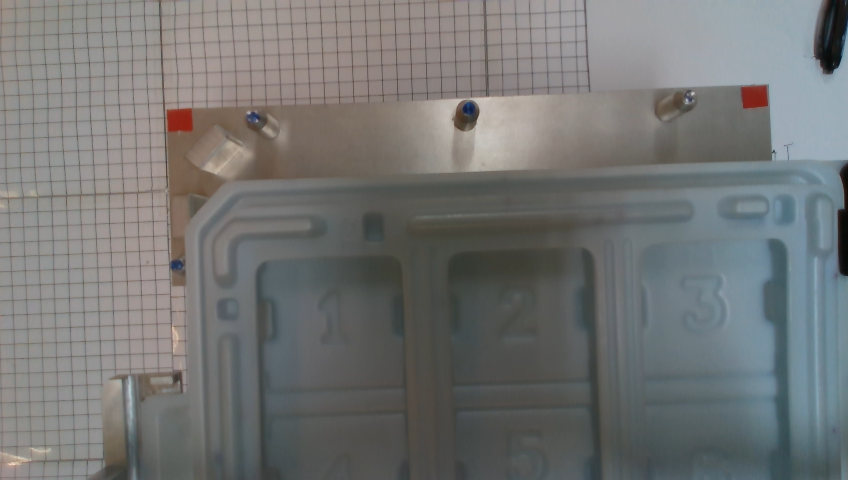red: (167, 109, 193, 132), (741, 86, 768, 108)
